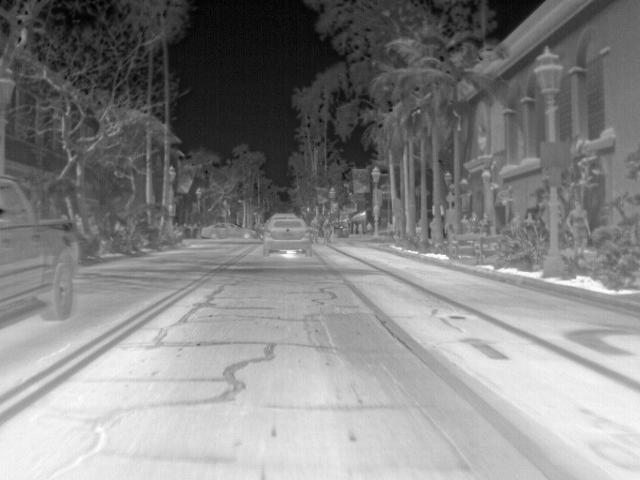car: (0, 174, 79, 328), (261, 216, 312, 257), (199, 221, 256, 239)
person: (564, 200, 591, 255), (308, 216, 321, 244), (477, 212, 492, 235), (468, 209, 481, 233), (508, 213, 522, 235), (459, 212, 472, 234), (322, 218, 333, 243), (521, 212, 536, 225), (363, 220, 376, 234), (354, 222, 366, 236)
